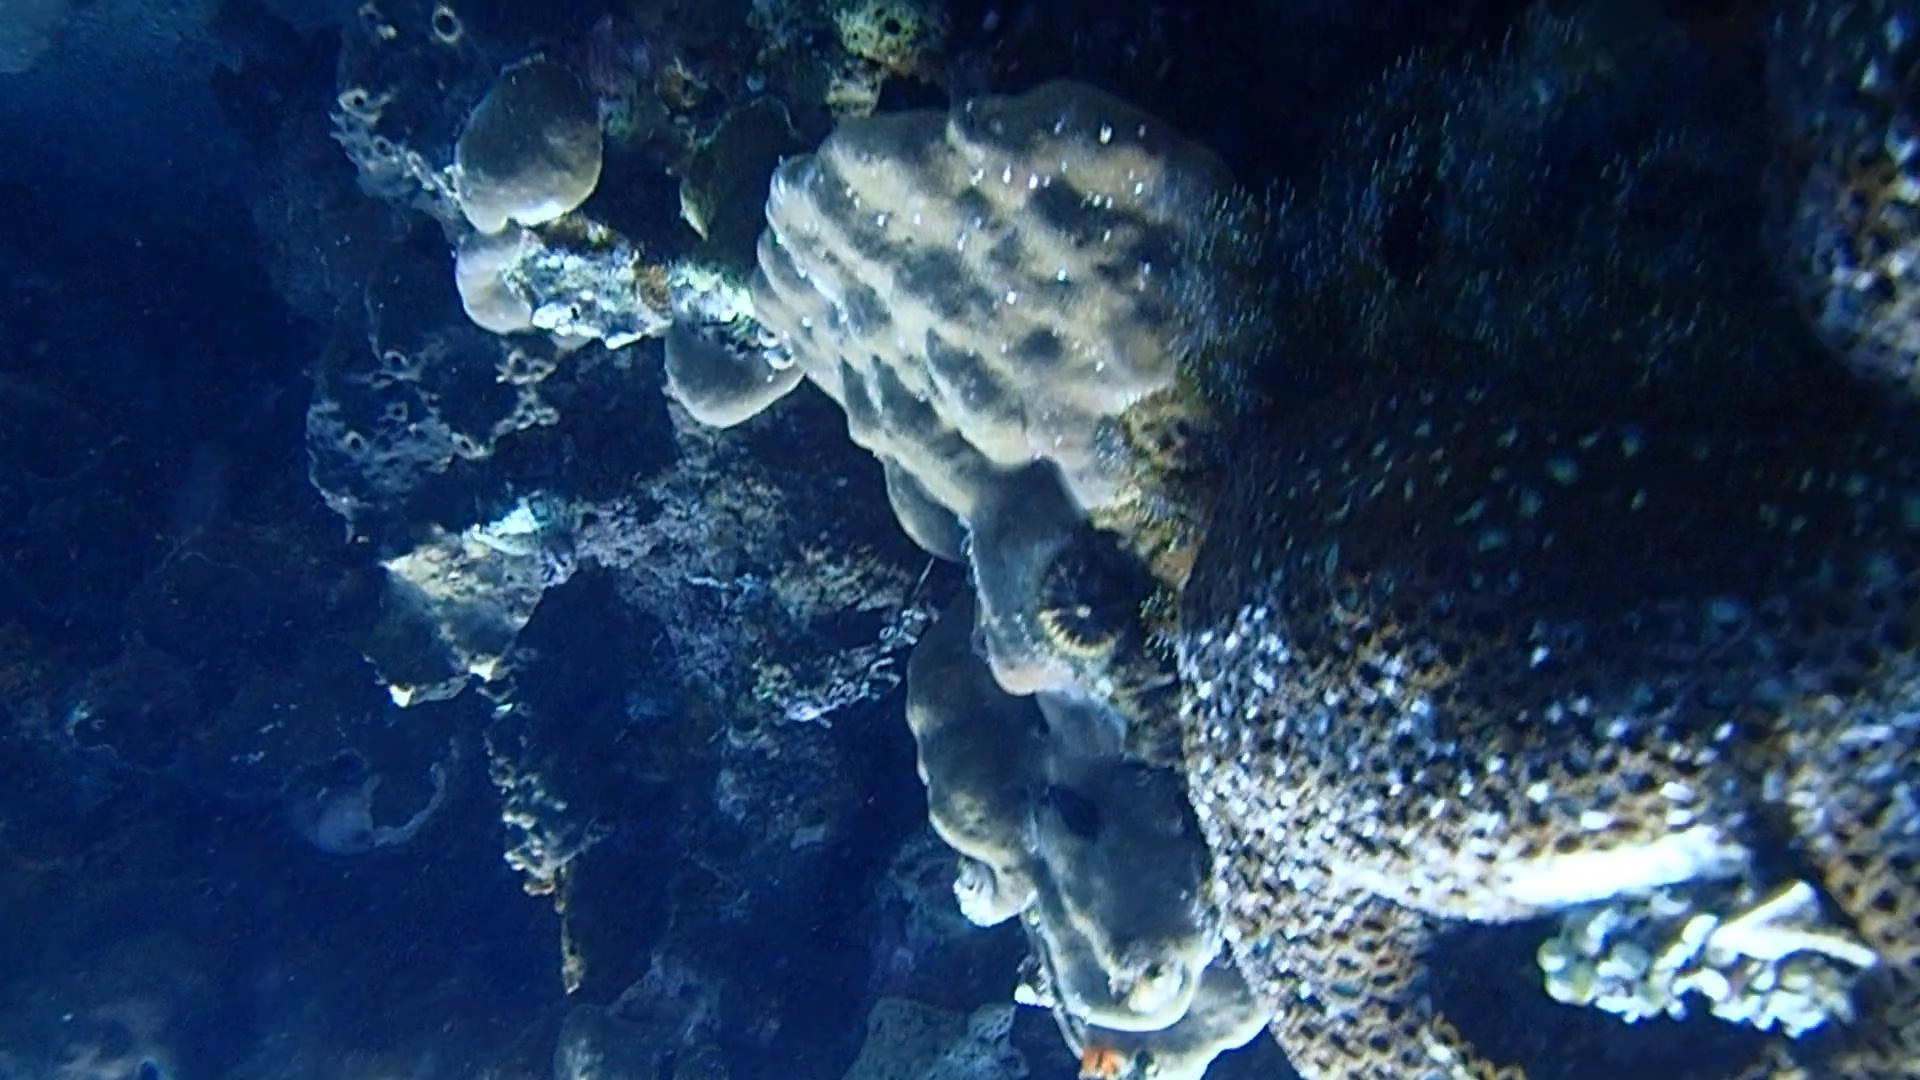Dark Fish: (1031, 770, 1114, 858), (796, 593, 906, 658)
